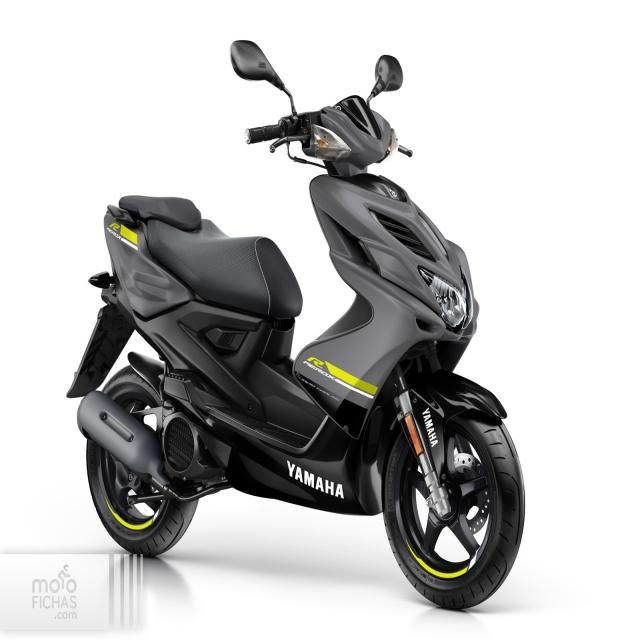Motorcycle: (67, 95, 525, 610)
